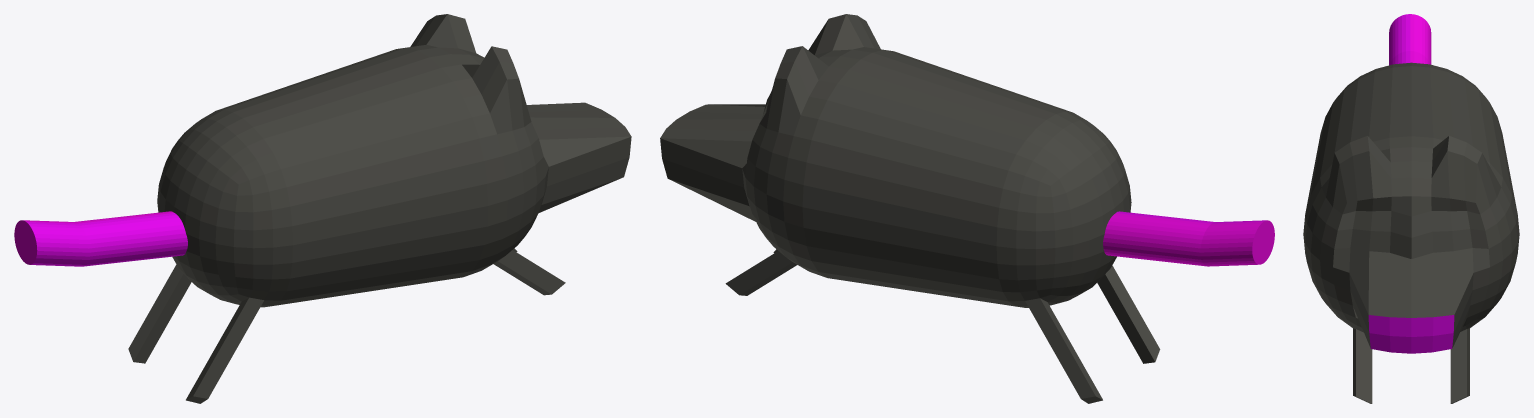
File: RAT.fbx
The picture shows the model from 3 angles, left to right: view 1: azimuth 30°, elevation 25°; view 2: azimuth 150°, elevation 25°; view 3: azimuth 270°, elevation 25°; orthographic projection. The views are drawn at different scales.
Visible parts, largest first — view 1: Cube; view 2: Cube; view 3: Cube.
Boxes of the visible parts, x1=… form: Cube: x1=14, y1=14, x2=631, y2=403; Cube: x1=660, y1=14, x2=1274, y2=403; Cube: x1=1303, y1=14, x2=1519, y2=403.
Size of the model in its own units: 563 by 258 by 193.
